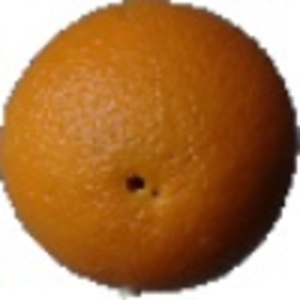laranja: (3, 2, 300, 293)
